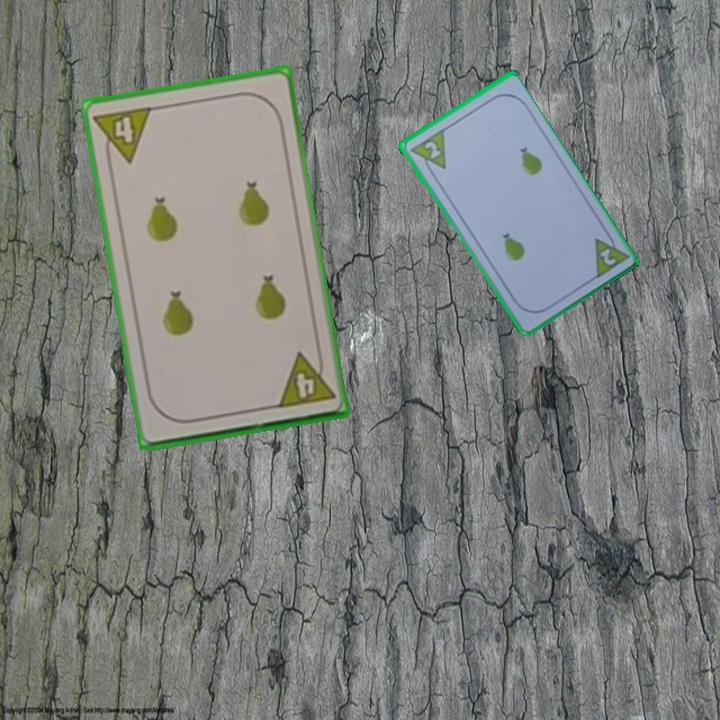2p: (406, 126, 449, 179), (590, 227, 630, 282)
4p: (90, 103, 155, 169), (273, 347, 338, 411)
